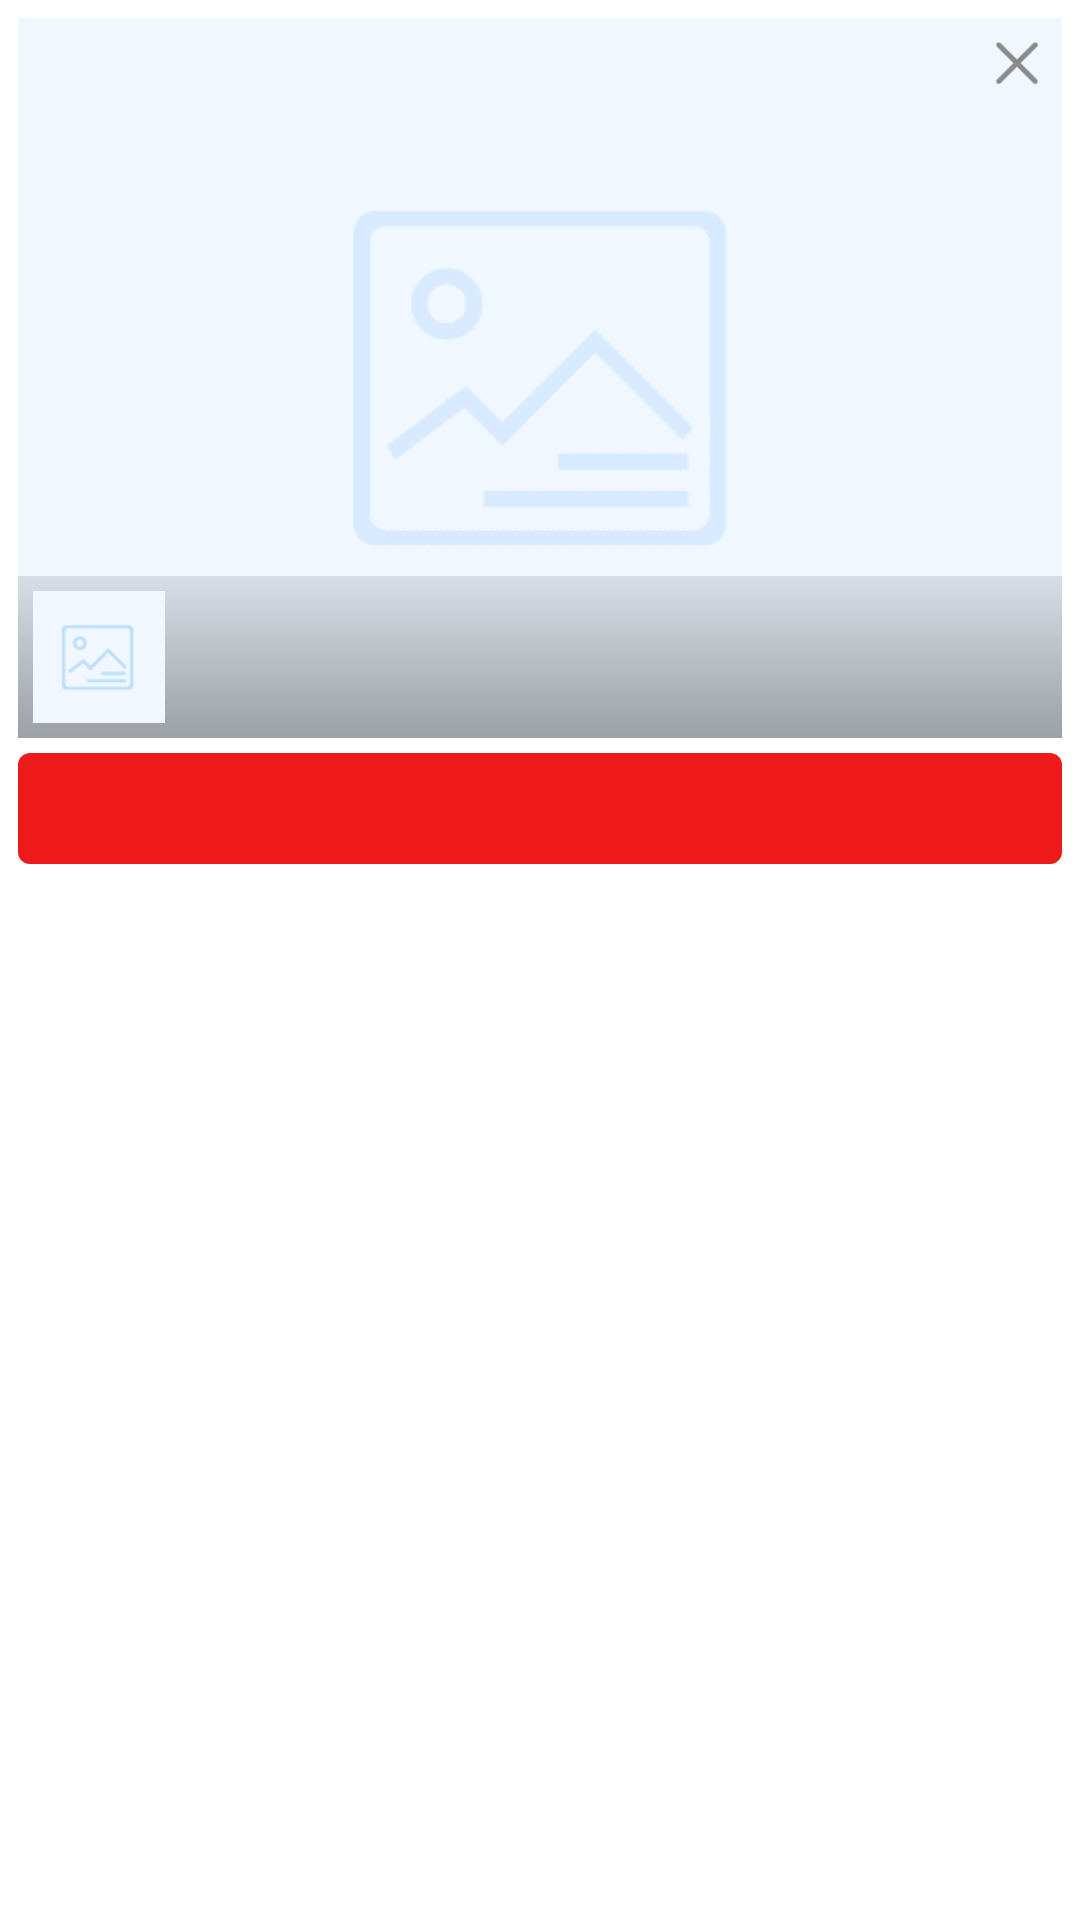

Locate icon controls on the screen. Image size 1080×1920, boxes as BBox(x1, y1, x2, y2).
ad close: BBox(996, 42, 1038, 84)
